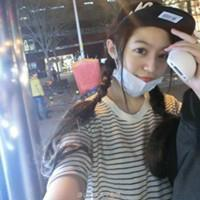face: (121, 27, 172, 92)
